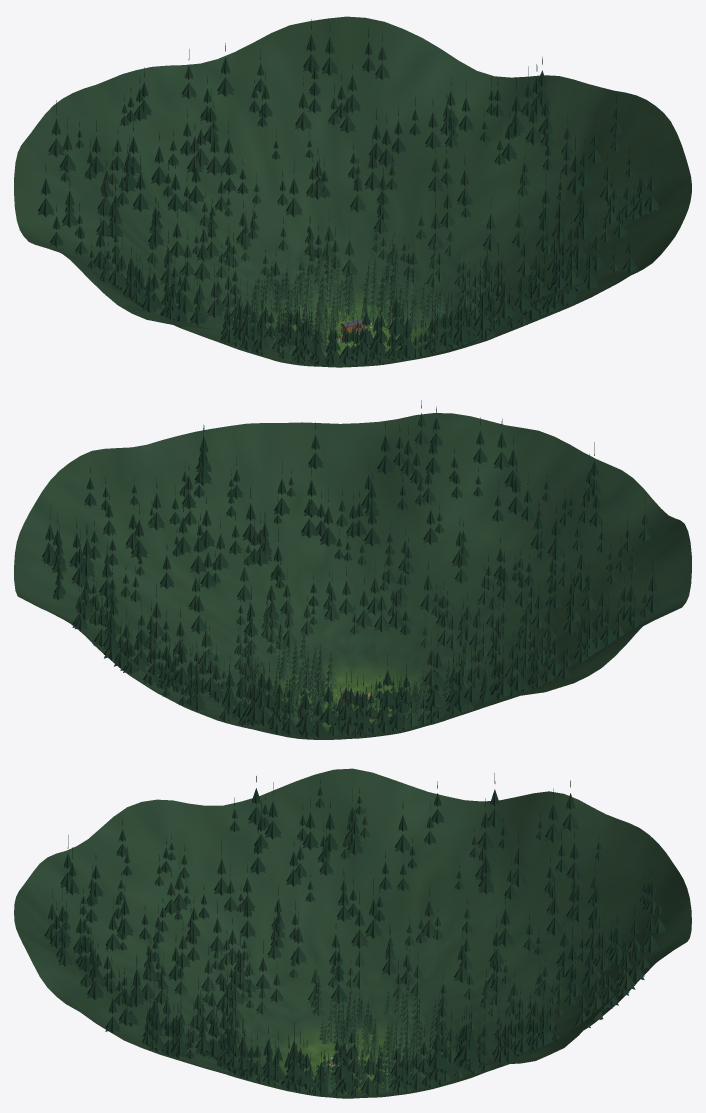
File: scena_drevo.glb
The picture shows the model from 3 angles, top to bottom: view 1: azimuth 30°, elevation 25°; view 2: azimuth 150°, elevation 25°; view 3: azimuth 270°, elevation 25°; orthographic projection.
Visible parts, largest first — view 1: Teren, Les_daleko, Les_blizko; view 2: Teren, Les_daleko, Les_blizko; view 3: Teren, Les_daleko, Les_blizko.
Boxes of the visible parts, x1=… form: Teren: x1=14, y1=16, x2=691, y2=367; Les_daleko: x1=37, y1=19, x2=659, y2=366; Les_blizko: x1=249, y1=245, x2=451, y2=354; Teren: x1=14, y1=413, x2=691, y2=739; Les_daleko: x1=42, y1=400, x2=660, y2=738; Les_blizko: x1=251, y1=629, x2=450, y2=730; Teren: x1=14, y1=768, x2=691, y2=1098; Les_daleko: x1=44, y1=773, x2=665, y2=1097; Les_blizko: x1=304, y1=976, x2=451, y2=1094.
Bounding box in the file's own units: 176 × 57.72 × 176.
